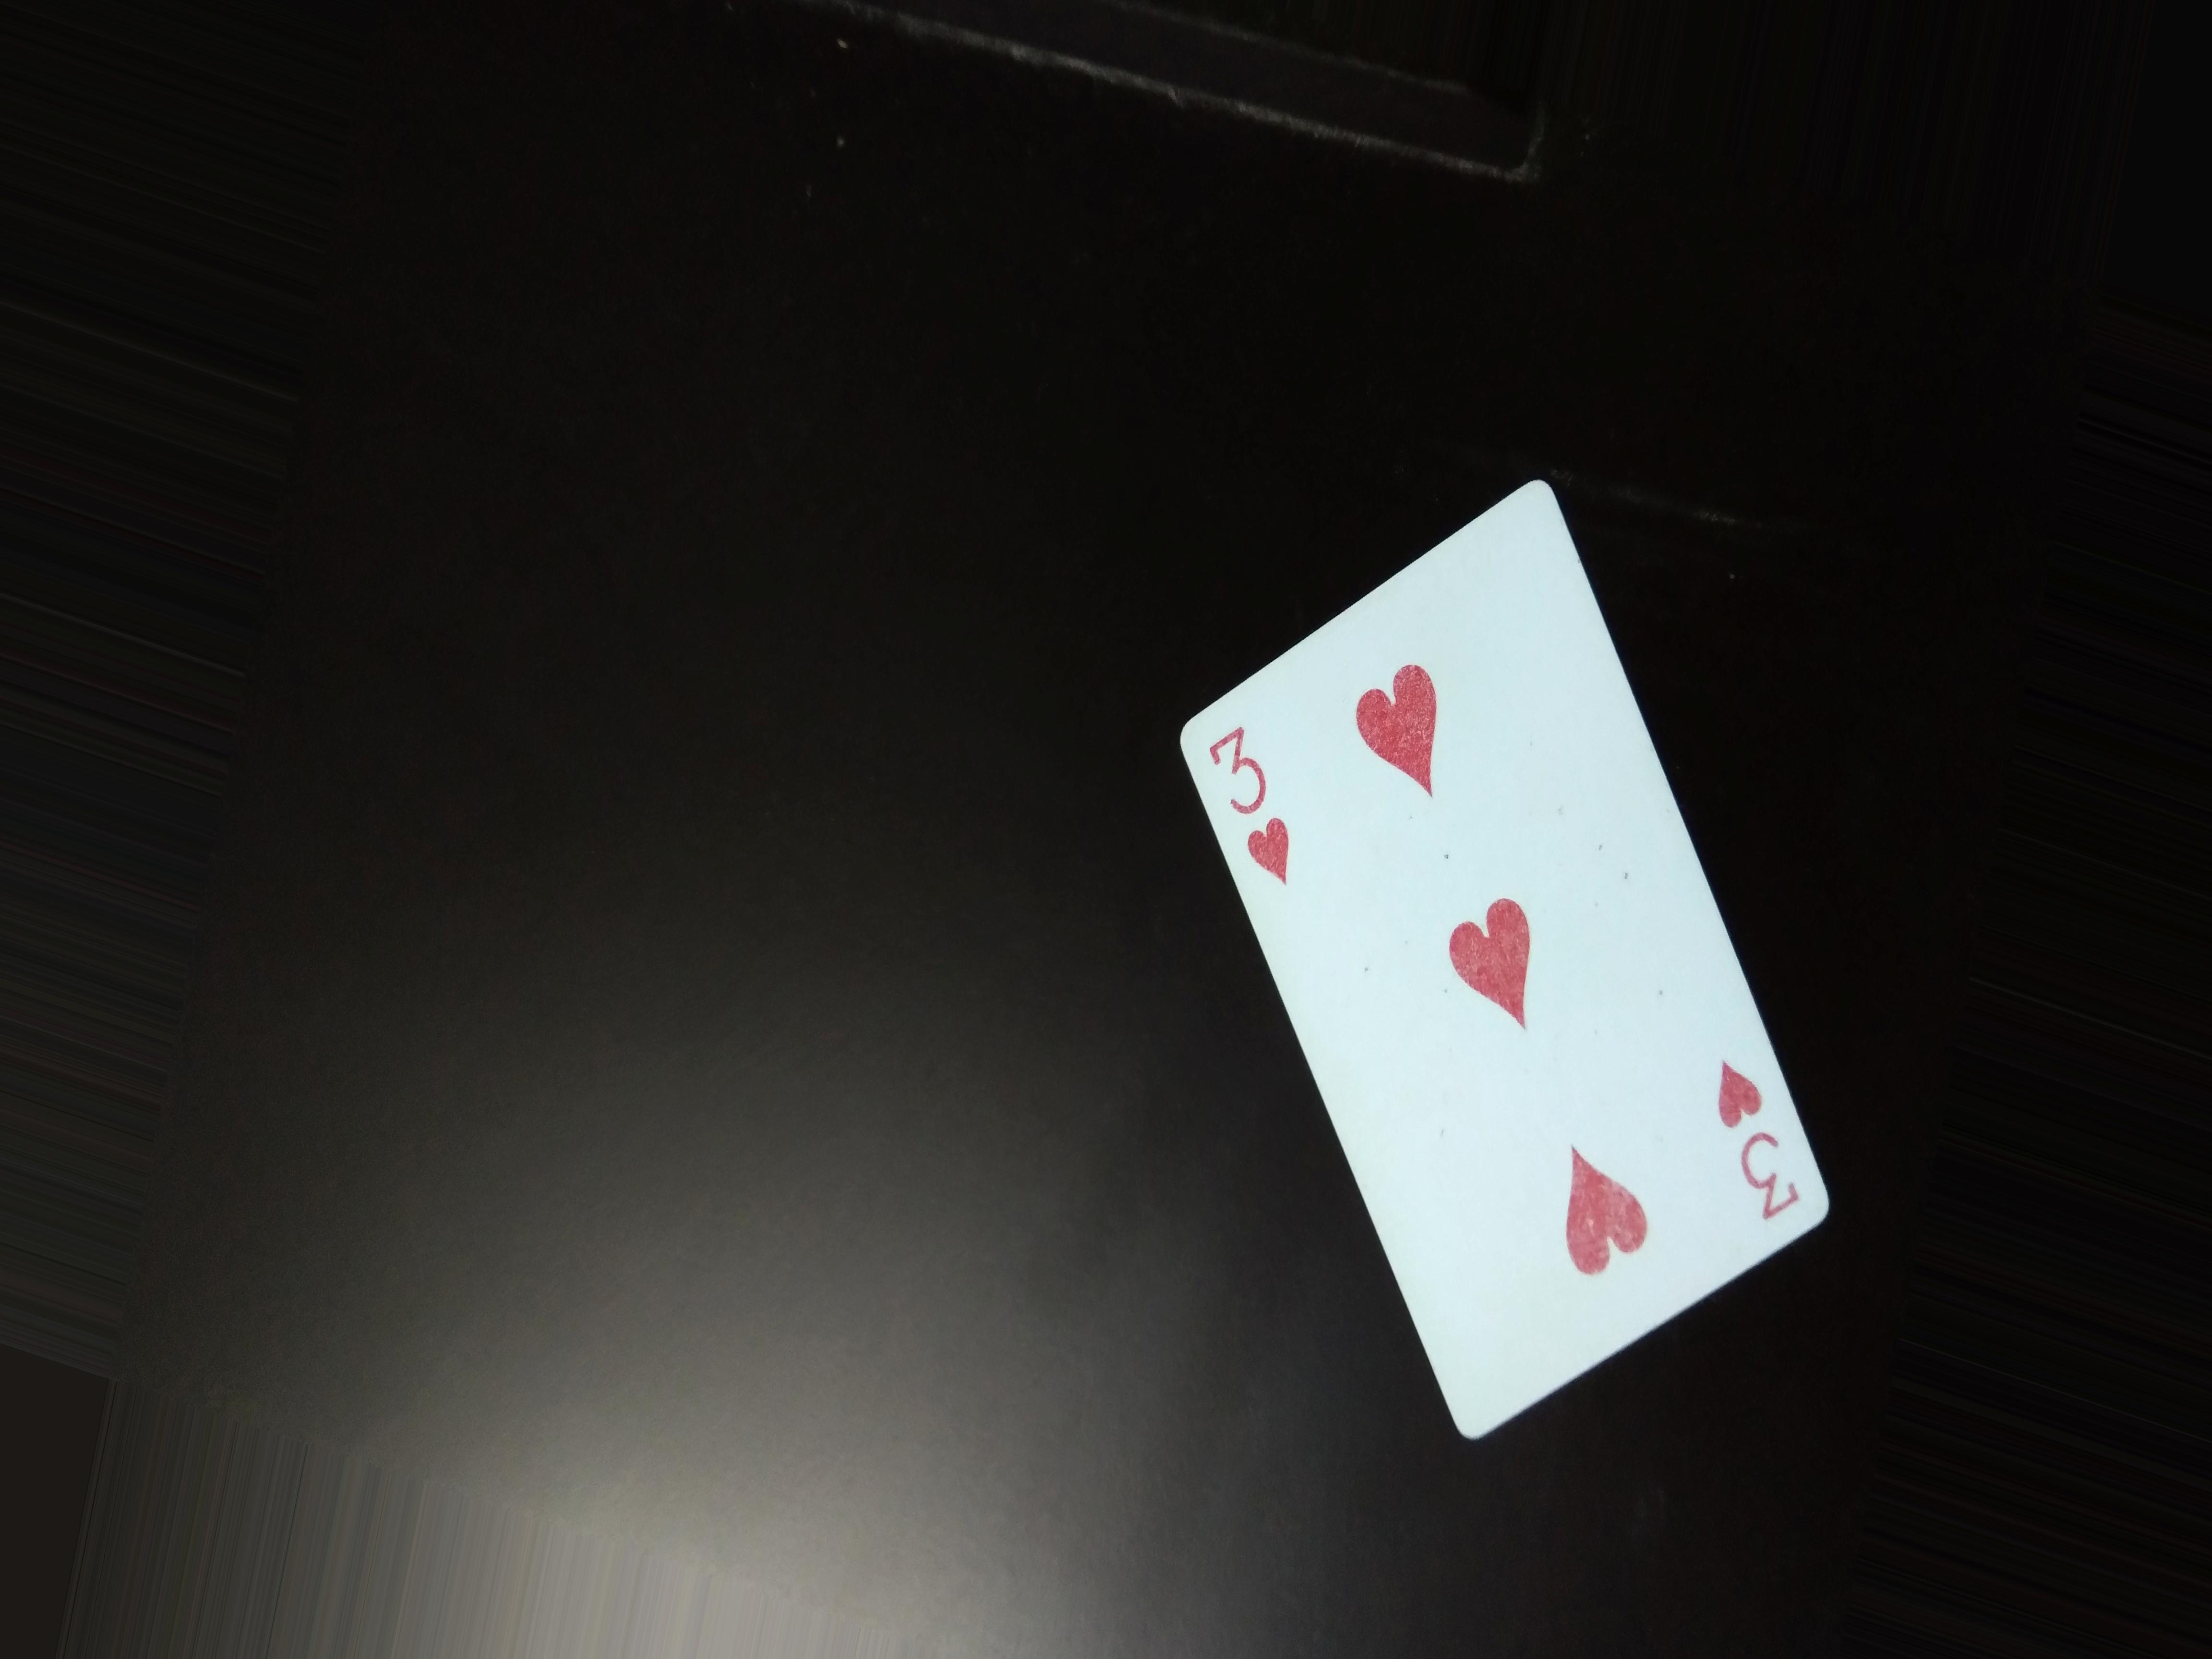3H: (1691, 1053, 1808, 1232)
